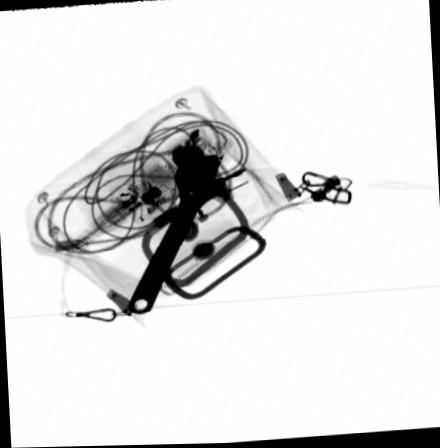Wrench: (126, 143, 227, 317)
